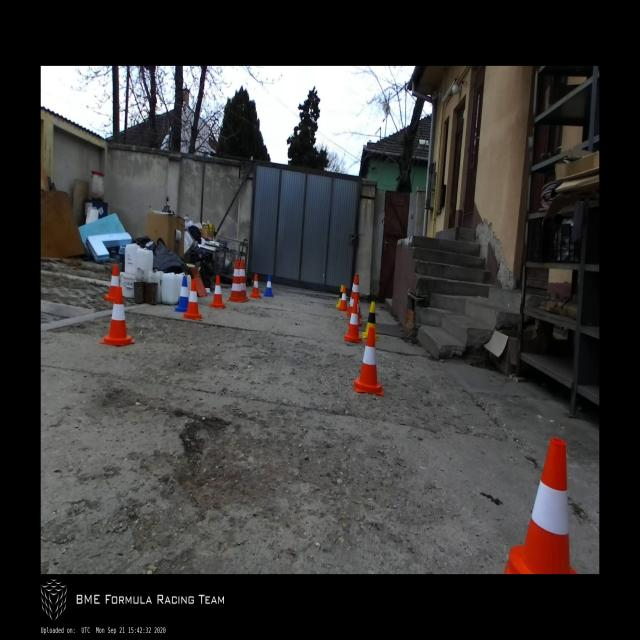blue_cone: (174, 275, 189, 312), (264, 274, 274, 297)
large_orange_cone: (227, 259, 244, 303), (346, 274, 362, 319), (239, 259, 250, 302)
orange_cone: (504, 436, 579, 574), (98, 286, 136, 346), (353, 327, 384, 396), (182, 279, 204, 320), (344, 300, 362, 344), (104, 264, 122, 300), (209, 275, 226, 309), (348, 293, 362, 326), (338, 286, 349, 311), (250, 273, 261, 298)
yellow_cone: (362, 301, 379, 341), (336, 284, 344, 308)
